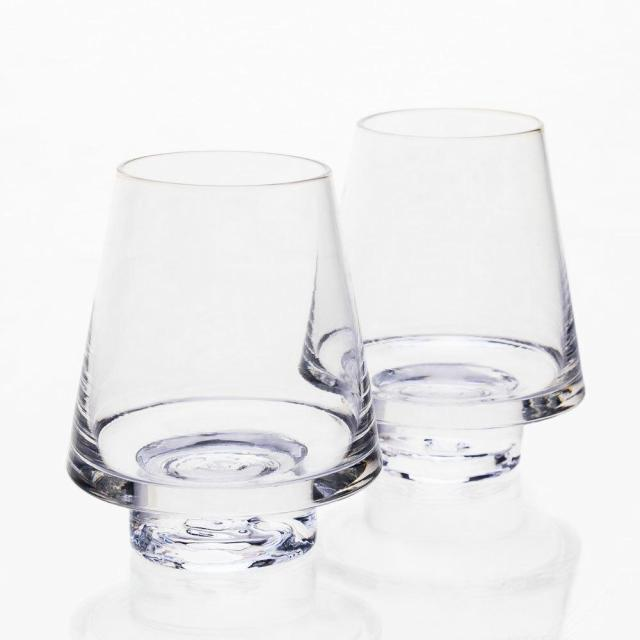Glass: (64, 152, 384, 572), (298, 103, 586, 489)
